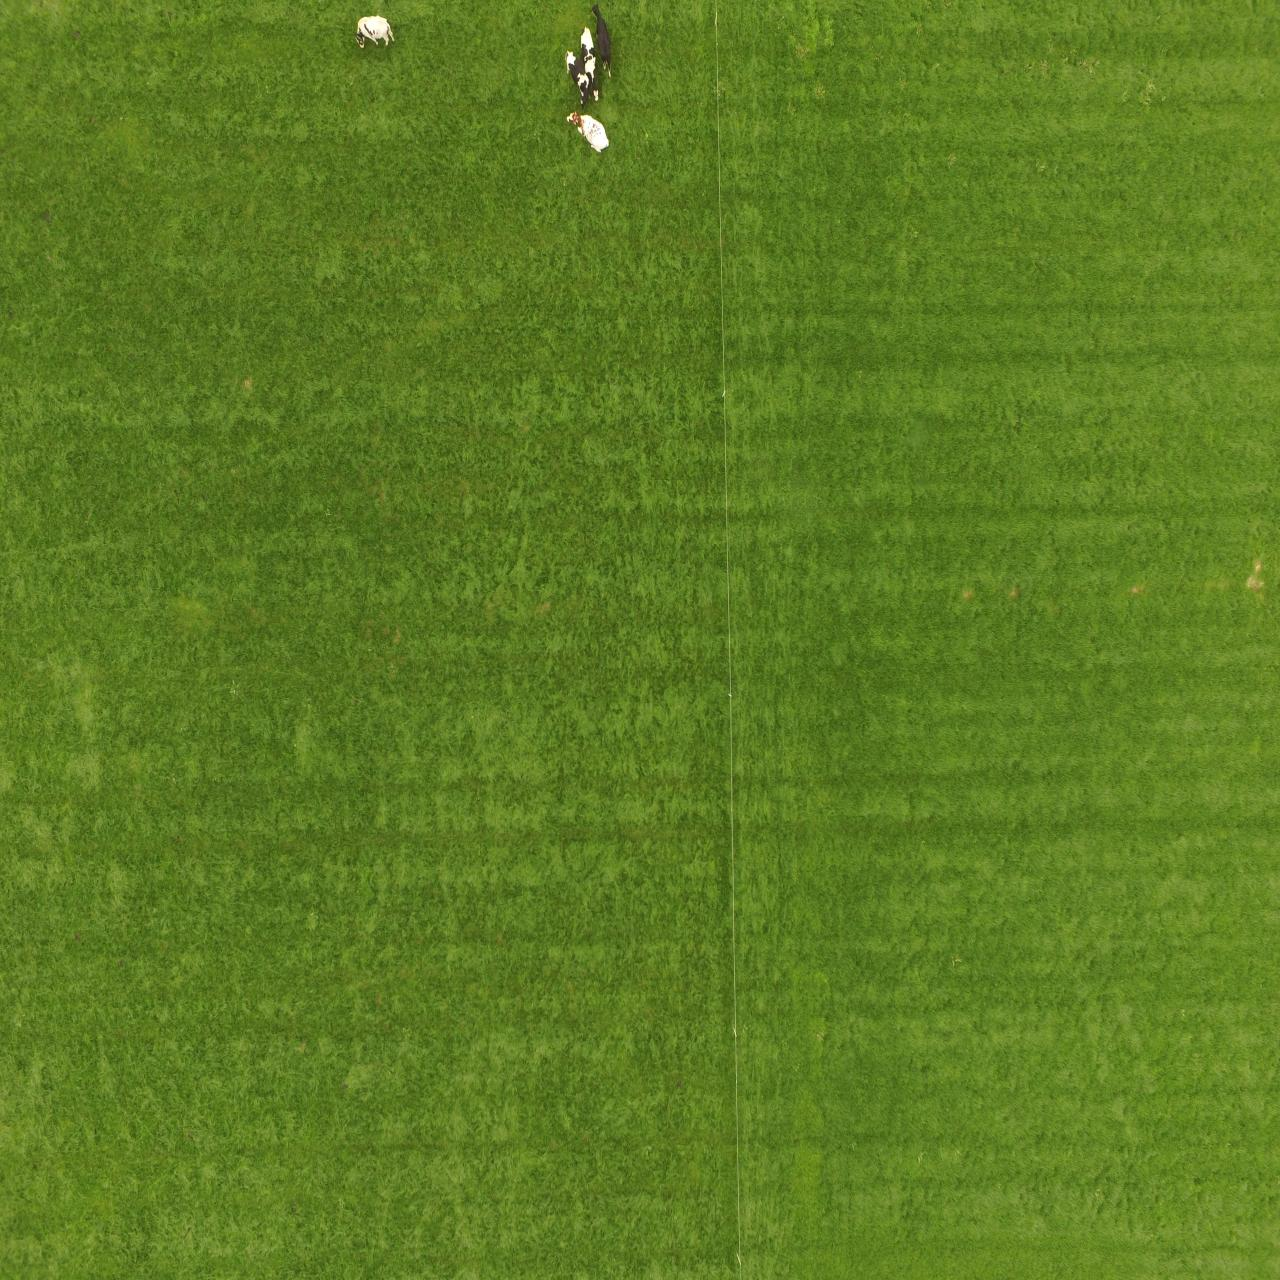cow: (350, 12, 402, 55), (590, 4, 622, 70), (564, 50, 599, 108), (564, 111, 611, 154), (580, 27, 600, 82)
